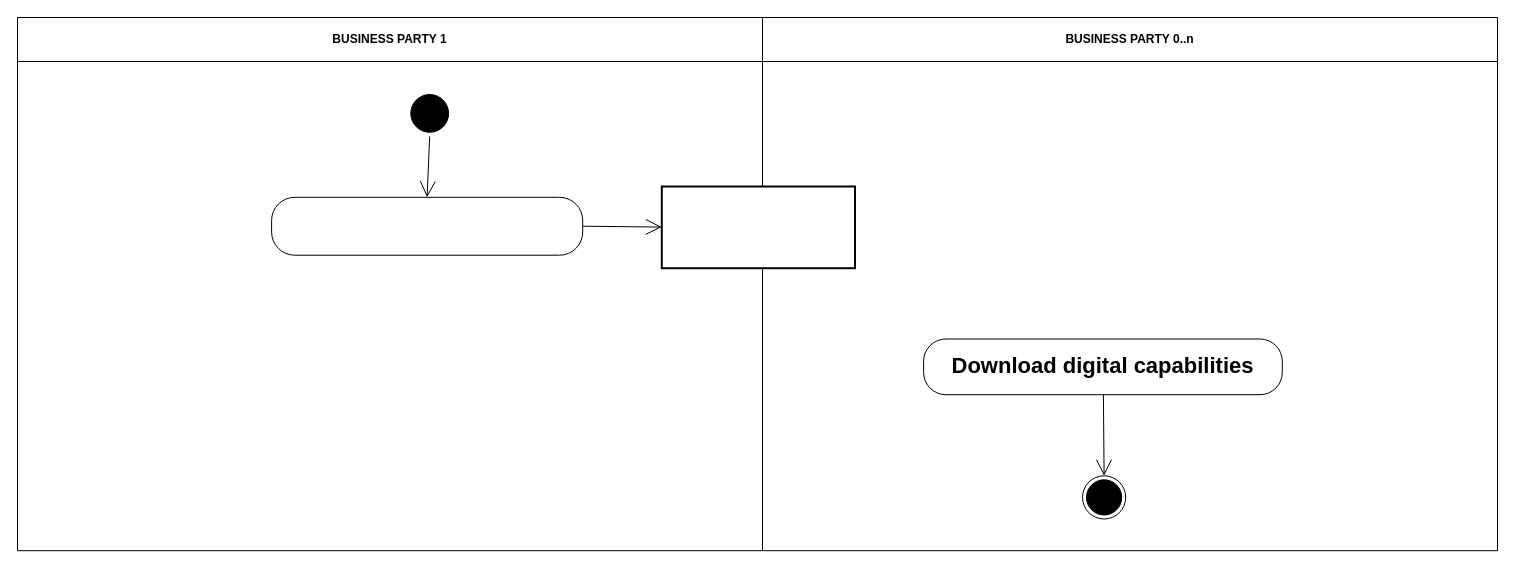
The diagram is 1515 pixels wide and 569 high, and some of its shapes have lost their labels. Each missing label, with the centre of its shape:
"Digital Capability" goes at point 758,227.
"Publish digital capabilities" goes at point 427,225.
